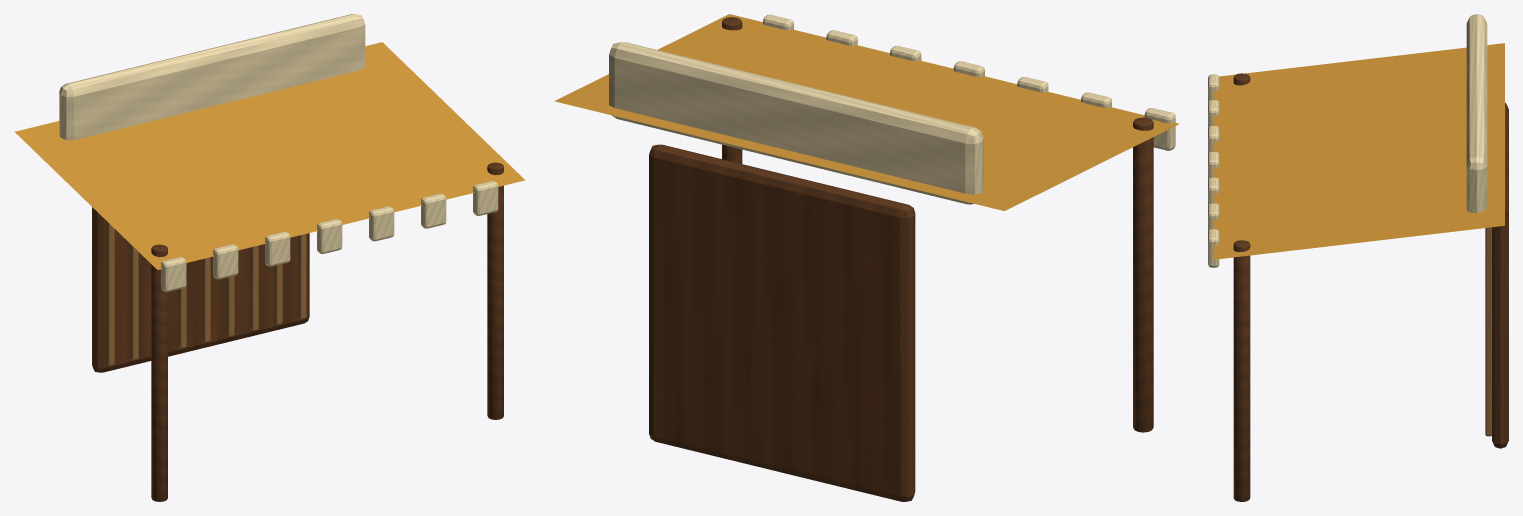
The model's file is Harbor_Details.fbx.
3 renders of one model, left to right at view 1: azimuth 30°, elevation 25°; view 2: azimuth 150°, elevation 25°; view 3: azimuth 270°, elevation 25°, orthographic. The views are drawn at different scales.
Visible parts, largest first — view 1: Harbor_Details; view 2: Harbor_Details; view 3: Harbor_Details.
Part boxes in pixels (x1,y1,x2,y2): Harbor_Details: [14, 14, 524, 501]; Harbor_Details: [554, 14, 1179, 501]; Harbor_Details: [1208, 14, 1508, 501].
Bounding box in the file's own units: 460 × 320 × 388.
